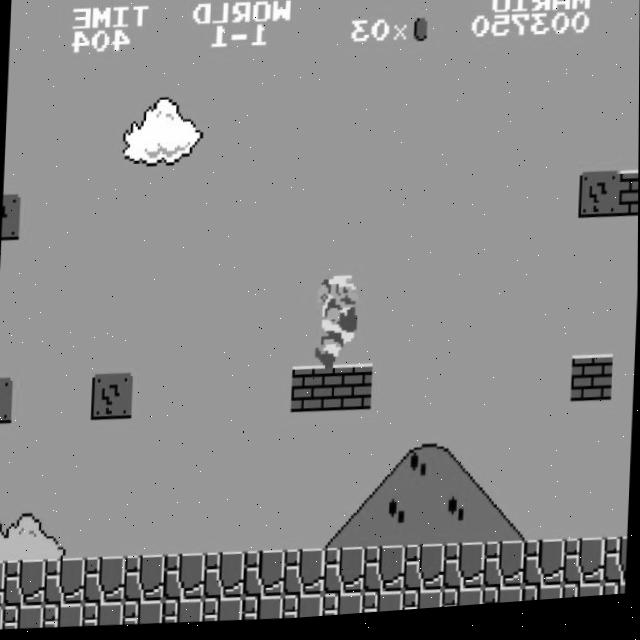1- brick_block: (290, 368, 334, 418), (330, 368, 374, 417), (570, 362, 613, 411), (618, 179, 639, 226)
13- mystery_block: (91, 373, 134, 423), (577, 179, 621, 227), (1, 192, 21, 240), (0, 375, 14, 423)
17- undestructible_block: (563, 545, 606, 595), (323, 550, 366, 600), (283, 551, 326, 601), (203, 553, 246, 603), (163, 554, 206, 604), (123, 555, 166, 605), (83, 556, 126, 606), (43, 557, 86, 607), (3, 558, 46, 608), (523, 546, 566, 595), (483, 547, 526, 596), (443, 548, 486, 597), (403, 549, 446, 598), (363, 550, 406, 599), (243, 553, 286, 602), (603, 545, 628, 593), (242, 598, 284, 625), (202, 599, 244, 626), (282, 597, 324, 623), (162, 600, 204, 626), (122, 601, 164, 627), (82, 602, 124, 628), (42, 603, 84, 629), (2, 604, 44, 630), (321, 596, 363, 621), (361, 595, 403, 619), (401, 594, 443, 616), (481, 592, 523, 612), (441, 594, 483, 614), (521, 591, 563, 609), (561, 591, 603, 607), (602, 590, 625, 605), (0, 558, 6, 606), (0, 605, 4, 628)
4- fire_mario: (315, 276, 362, 374)
